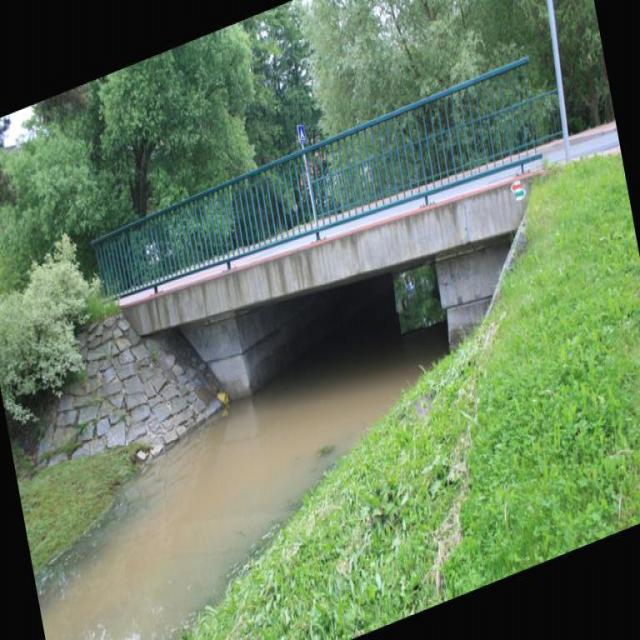flood: (13, 285, 479, 639)
